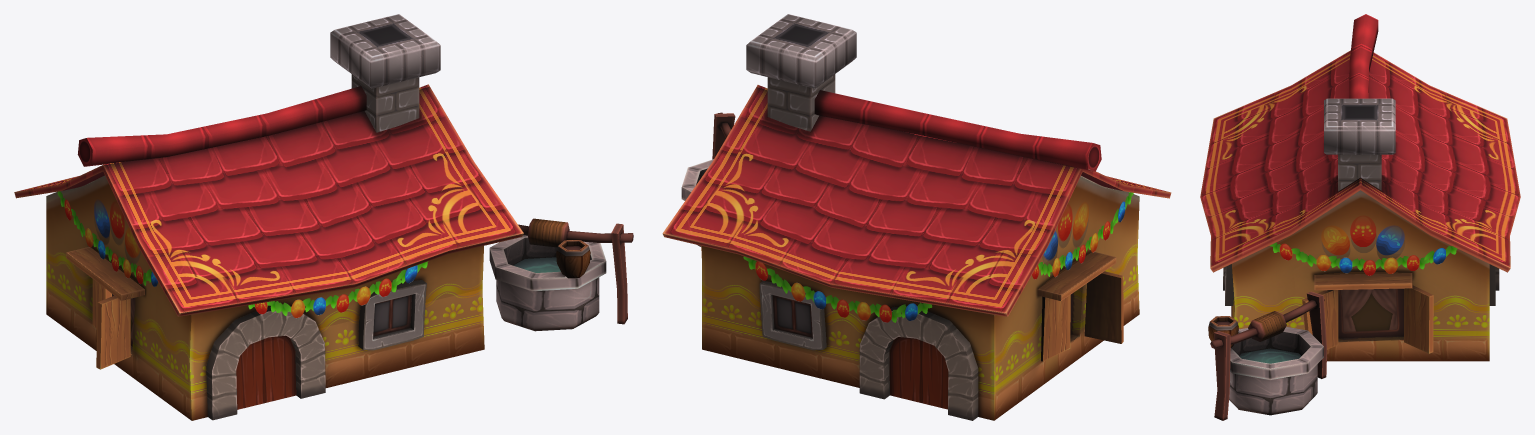
Rendered from House_01_F.FBX.
3 renders of one model, left to right at view 1: azimuth 30°, elevation 25°; view 2: azimuth 150°, elevation 25°; view 3: azimuth 270°, elevation 25°, orthographic. The views are drawn at different scales.
Parts seen in each view (by area): view 1: House_01, Egg_Rope_House_01; view 2: House_01, Egg_Rope_House_01; view 3: House_01, Egg_Rope_House_01.
Part boxes in pixels (x1,y1,x2,y2): House_01: [14, 14, 633, 420]; Egg_Rope_House_01: [57, 191, 428, 318]; House_01: [662, 14, 1171, 420]; Egg_Rope_House_01: [743, 192, 1133, 322]; House_01: [1200, 14, 1520, 420]; Egg_Rope_House_01: [1269, 242, 1457, 275].
Bounding box in the file's own units: 284 × 154 × 189.
